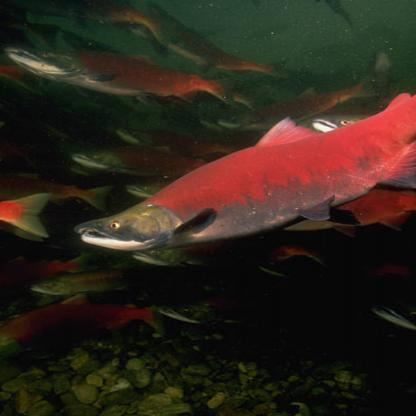sockeye: (76, 96, 416, 260), (18, 21, 216, 98)
